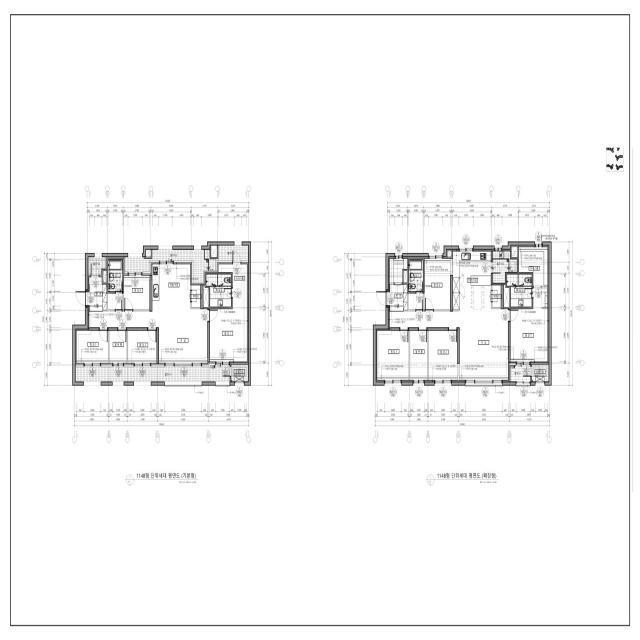space_balconi: (124, 249, 216, 285), (76, 365, 230, 382), (218, 245, 248, 262), (88, 257, 107, 275), (510, 366, 530, 382)
space_bedroom: (510, 287, 549, 362), (210, 309, 248, 362), (376, 331, 409, 380), (429, 331, 457, 380), (424, 259, 450, 310), (76, 331, 108, 363), (128, 331, 157, 363), (124, 276, 150, 310)
space_dressroom: (217, 264, 248, 309), (519, 247, 549, 286)
space_front: (89, 277, 107, 311), (388, 284, 407, 311)
space_kitchen: (453, 251, 491, 310), (152, 264, 190, 310)
space_living_room: (389, 309, 508, 380), (89, 309, 208, 363)
space_other: (410, 331, 427, 380), (109, 331, 127, 363), (389, 259, 407, 283), (108, 293, 123, 310), (408, 293, 423, 310), (492, 285, 501, 307), (192, 285, 200, 307), (203, 285, 209, 307), (504, 285, 509, 307), (211, 246, 217, 257), (512, 246, 518, 257), (103, 271, 107, 283), (404, 271, 407, 283), (146, 250, 151, 257), (448, 251, 451, 257)
space_outdoor_room: (532, 365, 549, 382), (231, 365, 248, 382)
space_toilet: (206, 274, 231, 307), (507, 274, 532, 307), (493, 251, 518, 283), (108, 260, 122, 291), (409, 260, 423, 291)
